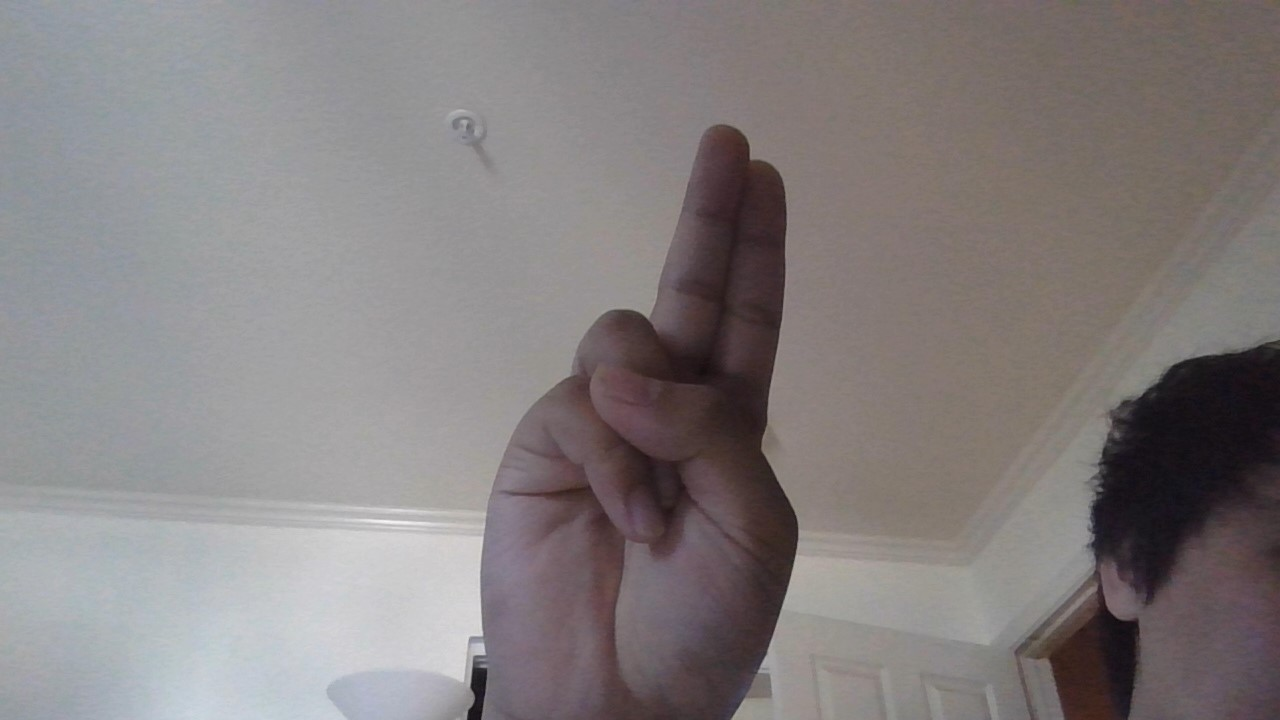u: (435, 99, 826, 720)
